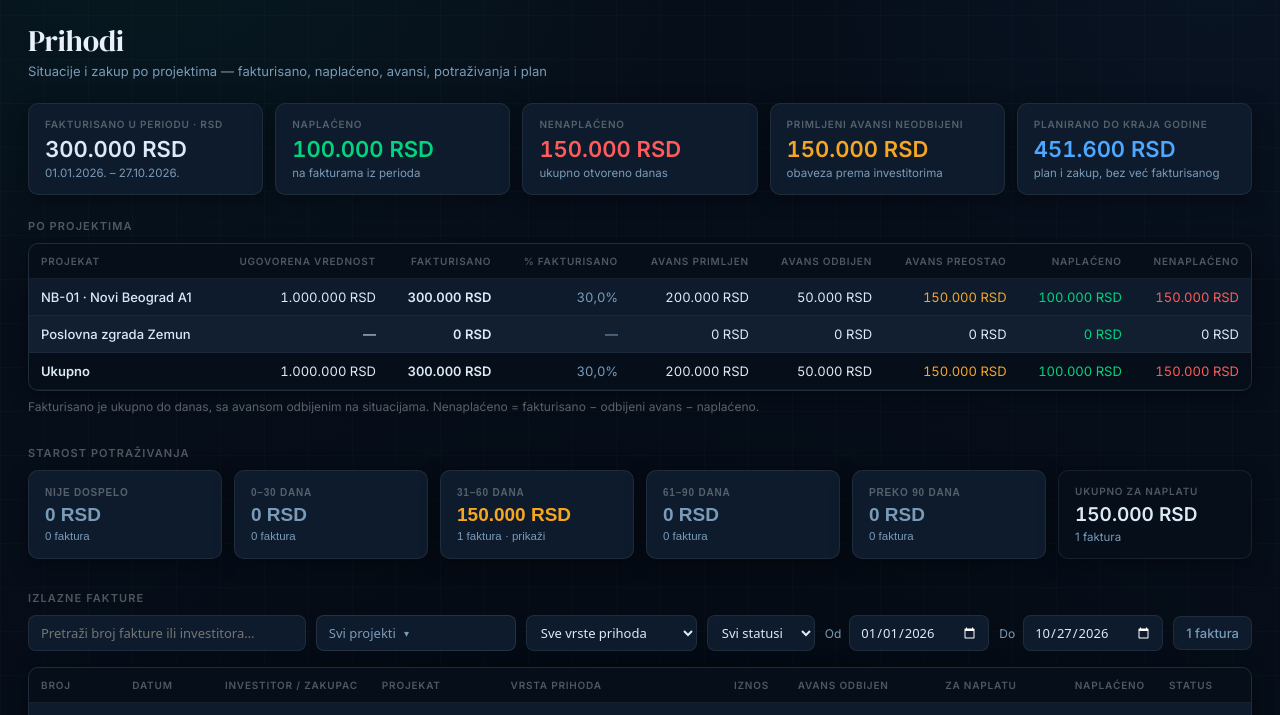
Test: Prihodi page — populated › lists the invoice with its Serbian status and opens aging buckets
Click the button with aria-label "31–60 dana: 1 faktura". click: (537, 514)
box: [440,470,634,559]
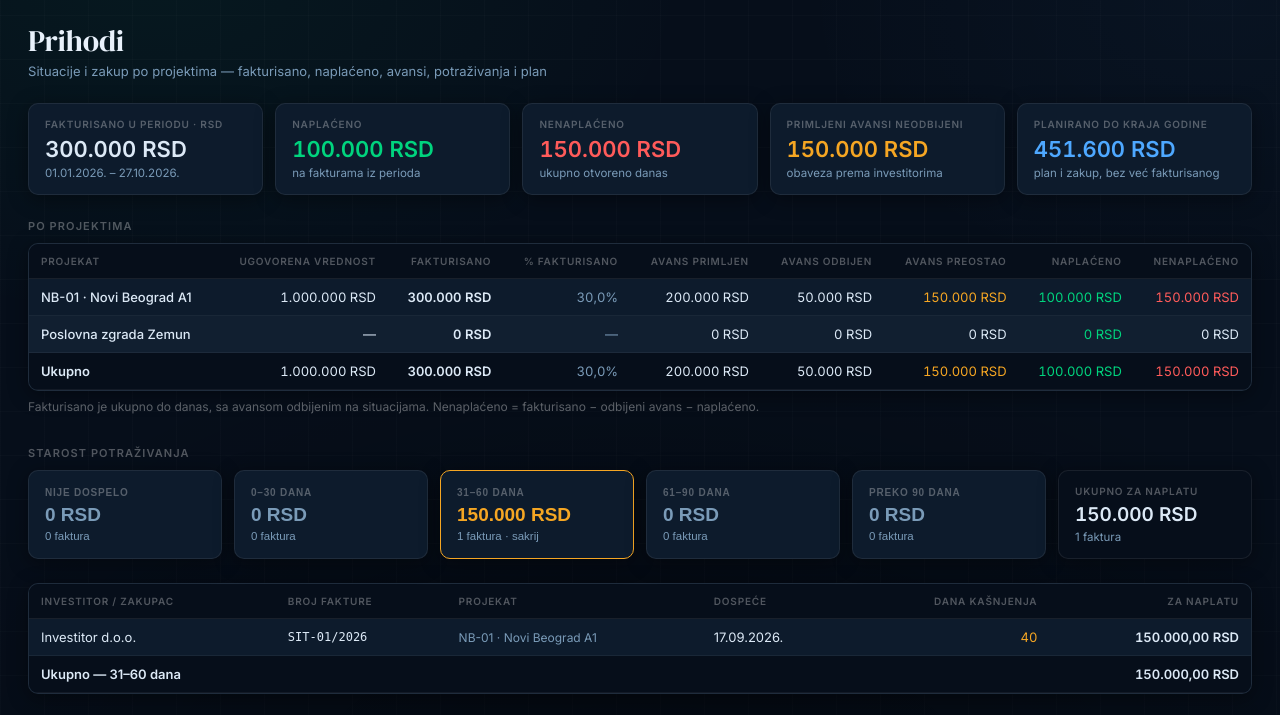
Expected: the text "SIT-01/2026" is shown, [276,618,447,656]
Expected: the text "40" is shown, [849,618,1050,656]
